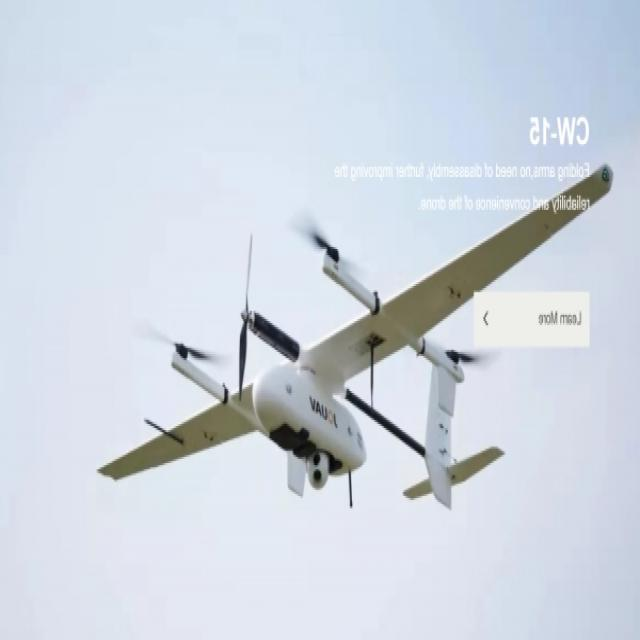iha: (85, 228, 386, 574)
